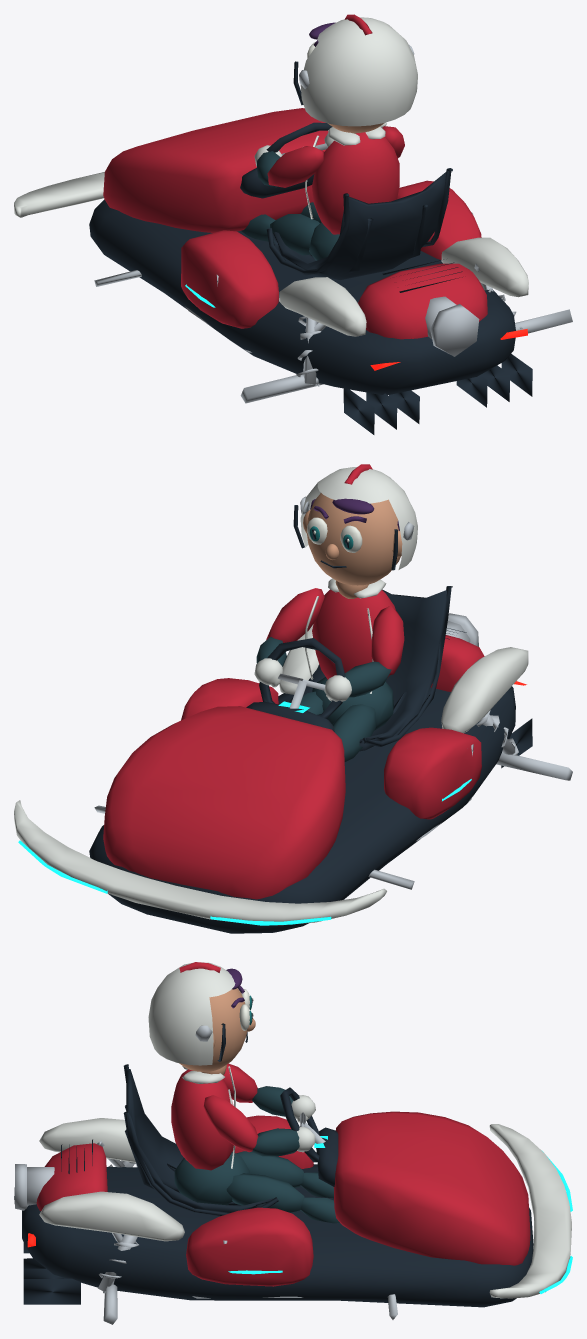
Rendered from kestrel-kart-low-v1.glb.
3 renders of one model, top to bottom at view 1: azimuth 30°, elevation 25°; view 2: azimuth 150°, elevation 25°; view 3: azimuth 270°, elevation 25°, orthographic. The views are drawn at different scales.
Parts seen in each view (by area): view 1: ContinuousLowerHull, SculptedProw, SweptFrontApron, PodVent-1_0, TailoredTorso, SeatedHip, UpperArm-1; view 2: SculptedProw, ContinuousLowerHull, SweptFrontApron, Neck, TailoredTorso, PodVent-1_0, SeatedHip, UpperArm1, UpperArm-1, InstrumentScreen, Forearm-1, Eyebrow-1 (+3 smaller); view 3: SculptedProw, ContinuousLowerHull, SweptFrontApron, SeatedHip, TailoredTorso, PodVent-1_0, Neck, UpperArm1, Forearm1, UpperArm-1, Forearm-1, InstrumentScreen.
Part boxes in pixels (x1=…): ContinuousLowerHull: x1=89, y1=61, x2=532, y2=434; SculptedProw: x1=103, y1=14, x2=487, y2=339; SweptFrontApron: x1=14, y1=17, x2=528, y2=336; PodVent-1_0: x1=94, y1=45, x2=572, y2=403; TailoredTorso: x1=312, y1=132, x2=399, y2=234; SeatedHip: x1=241, y1=202, x2=339, y2=260; UpperArm-1: x1=267, y1=146, x2=323, y2=187; SculptedProw: x1=103, y1=464, x2=484, y2=899; ContinuousLowerHull: x1=89, y1=505, x2=532, y2=933; SweptFrontApron: x1=14, y1=467, x2=528, y2=925; Neck: x1=303, y1=493, x2=402, y2=598; TailoredTorso: x1=312, y1=589, x2=395, y2=679; PodVent-1_0: x1=94, y1=496, x2=572, y2=889; SeatedHip: x1=300, y1=677, x2=393, y2=762; UpperArm1: x1=266, y1=588, x2=324, y2=642; UpperArm-1: x1=371, y1=605, x2=404, y2=675; InstrumentScreen: x1=18, y1=701, x2=471, y2=925; Forearm-1: x1=345, y1=661, x2=391, y2=697; Eyebrow-1: x1=310, y1=498, x2=399, y2=530; SculptedProw: x1=36, y1=962, x2=530, y2=1286; ContinuousLowerHull: x1=14, y1=998, x2=533, y2=1307; SweptFrontApron: x1=39, y1=962, x2=571, y2=1298; SeatedHip: x1=174, y1=1151, x2=339, y2=1223; TailoredTorso: x1=171, y1=1069, x2=233, y2=1170; PodVent-1_0: x1=15, y1=1025, x2=397, y2=1324; Neck: x1=179, y1=988, x2=255, y2=1075; UpperArm1: x1=203, y1=1095, x2=258, y2=1152; Forearm1: x1=251, y1=1128, x2=299, y2=1156; UpperArm-1: x1=223, y1=1063, x2=257, y2=1102; Forearm-1: x1=252, y1=1086, x2=292, y2=1116; InstrumentScreen: x1=228, y1=1136, x2=572, y2=1293.
Bounding box in the file's own units: 1.63 × 1.41 × 2.31.
